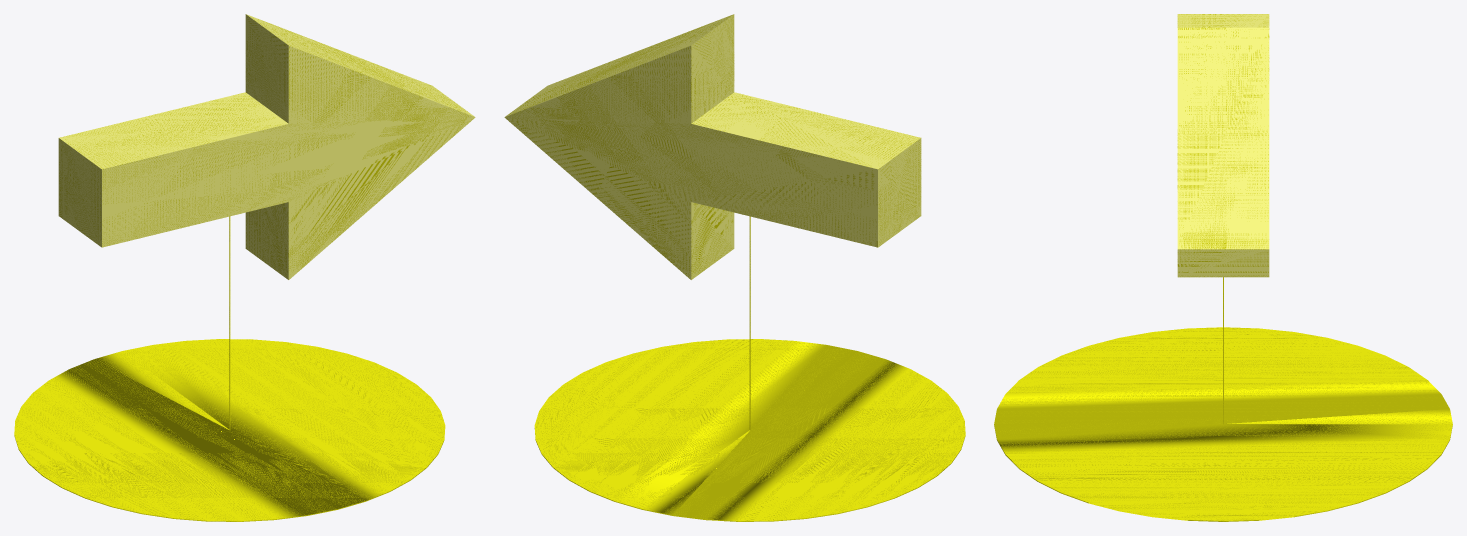
The model's file is waypoint_detect.dae.
The picture shows the model from 3 angles, left to right: view 1: azimuth 30°, elevation 25°; view 2: azimuth 150°, elevation 25°; view 3: azimuth 270°, elevation 25°; orthographic projection. The views are drawn at different scales.
Parts seen in each view (by area): view 1: SketchUp (×2); view 2: SketchUp (×2); view 3: SketchUp (×2).
Part boxes in pixels (box(x1,y1,x2,y2)): SketchUp (×2): box(14, 14, 475, 521); SketchUp (×2): box(504, 14, 965, 521); SketchUp (×2): box(994, 14, 1452, 521).
Size of the model in its own units: 21.65 by 19.69 by 19.72.
